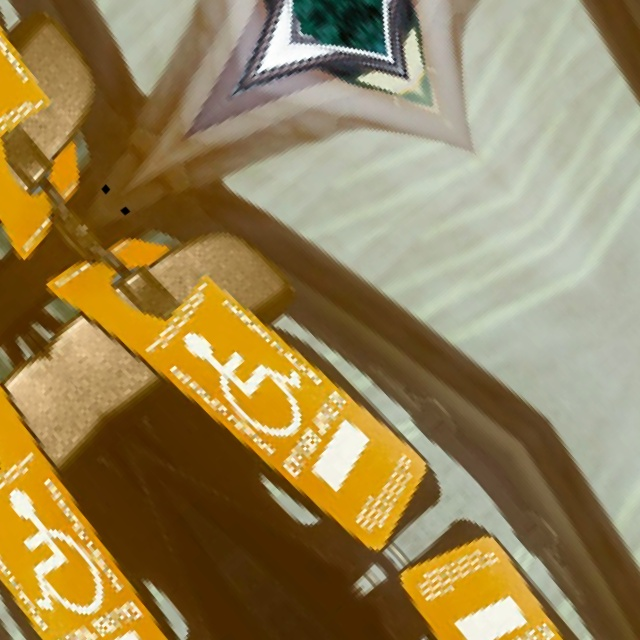ISA: (156, 284, 333, 466), (0, 463, 134, 640), (0, 0, 43, 143), (471, 635, 640, 640), (632, 0, 640, 39)
